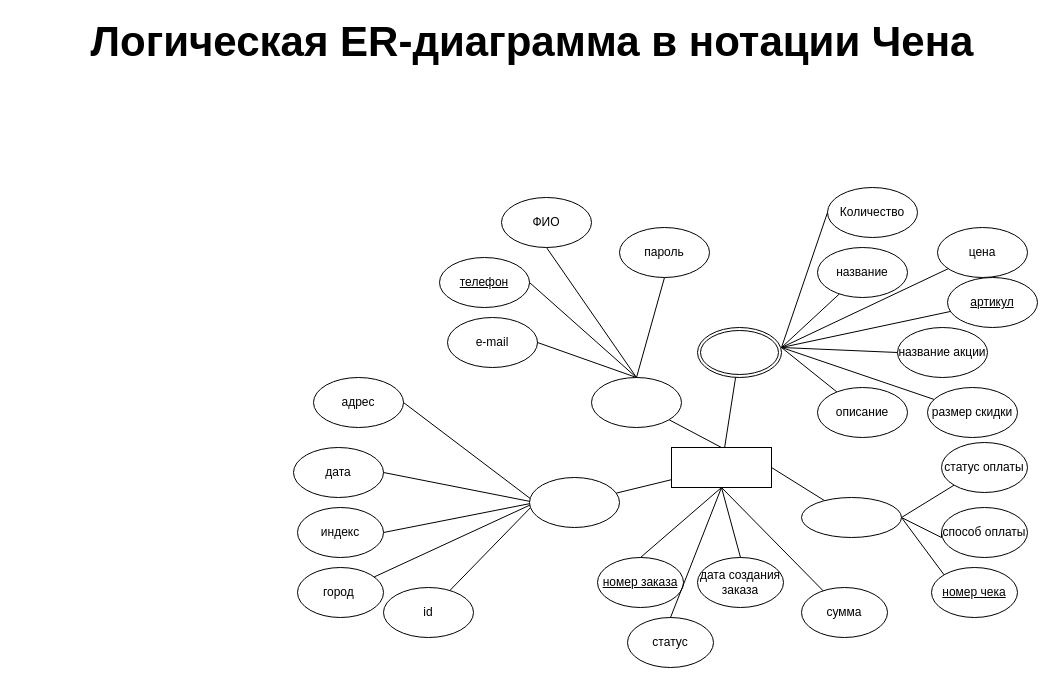
This 1064x685 diagram has some shape labels left out. The box of each missing label's shape, as (x1, y1, x2, y2) in pixels:
Доставка: (528, 476, 620, 528)
Заказ: (670, 446, 772, 488)
Оплата: (800, 496, 902, 538)
Пользователь: (590, 376, 682, 428)
Товар: (696, 326, 782, 378)
